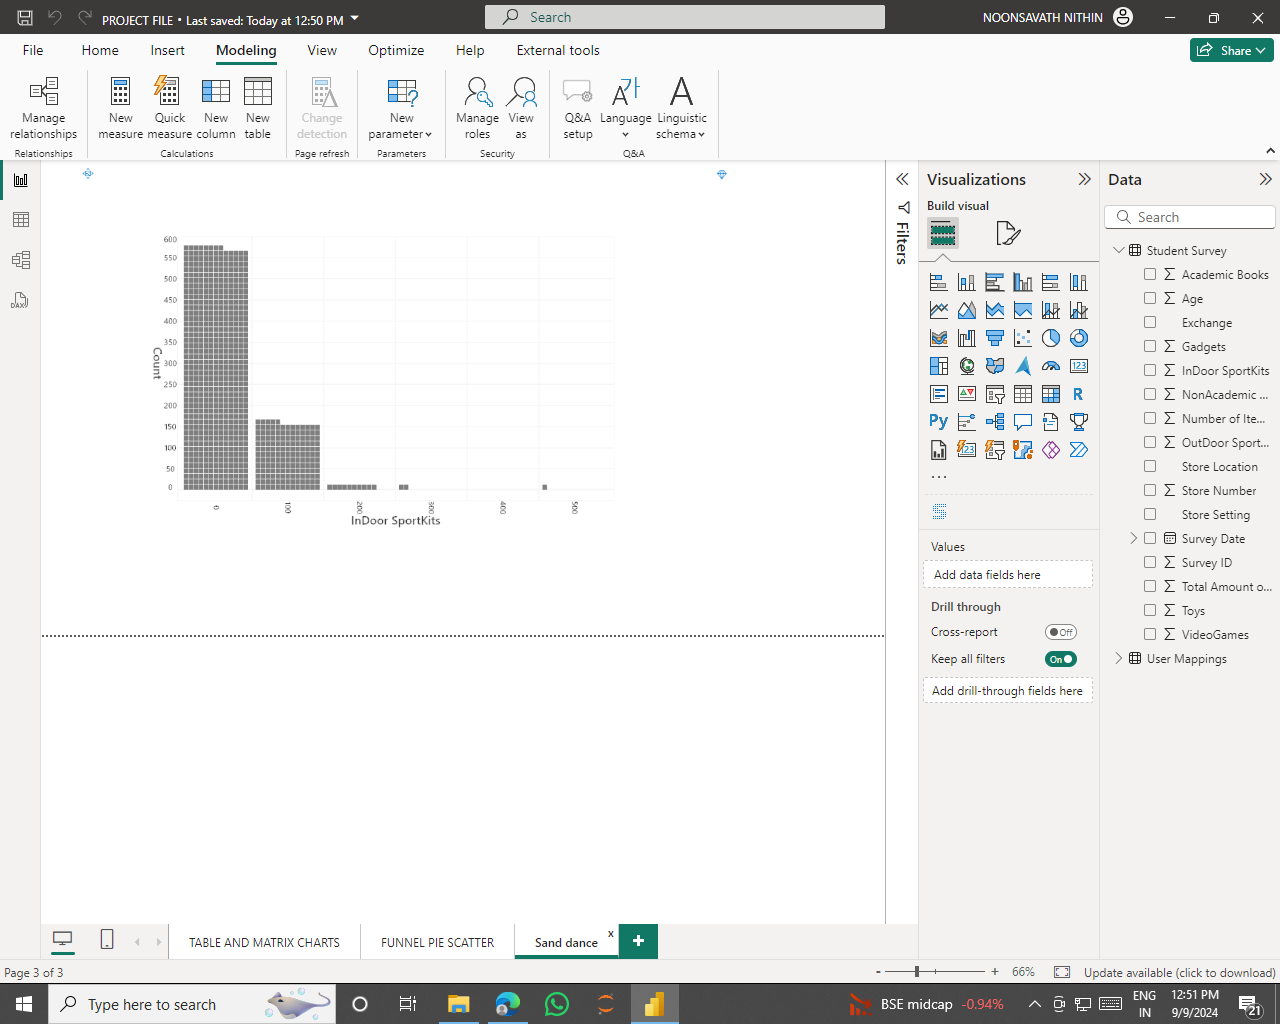

This screenshot's page, from the dashboard's own definition file:
{"tool":"powerbi","page":{"name":"Sand dance","canvas":[1280,720],"ordinal":2},"visuals":[{"type":"SandDance201929976D117A654D0BAB8E96507442D80B","fields":{"values":["Student Survey.Age","Student Survey.VideoGames","Student Survey.InDoor SportKits"]},"box":[0,0,1057.1,667.3],"z":0}]}

Visuals, with their boxes on the page's 1280x720 design canvas (x1, y1, x2, y2). These are canvas units, not pixel positions in the 1280x1024 screenshot, which may show the page scaled, cropped or inside an application window:
SandDance201929976D117A654D0BAB8E96507442D80B - Student Survey.Age x Student Survey.VideoGames: x1=0 y1=0 x2=1057 y2=667
